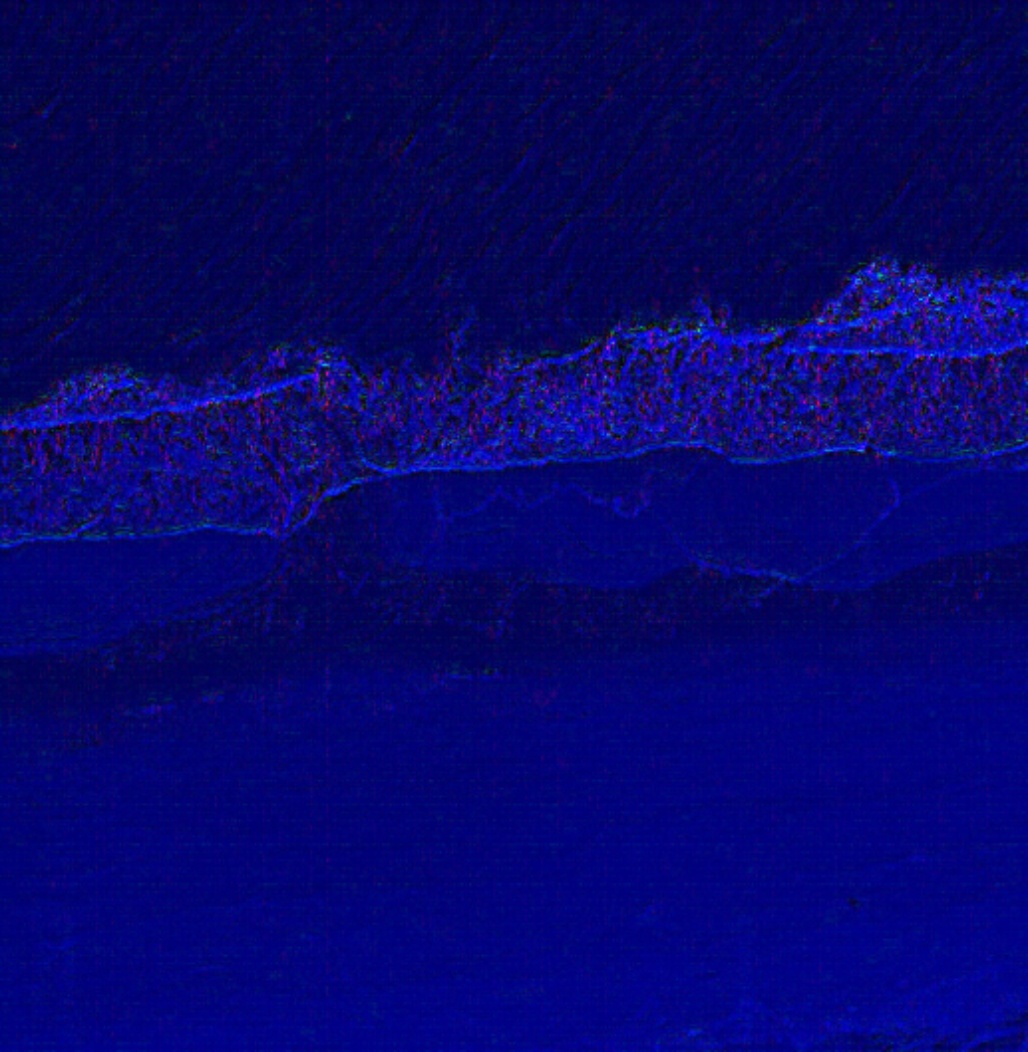rip_current: (199, 316, 407, 595)
